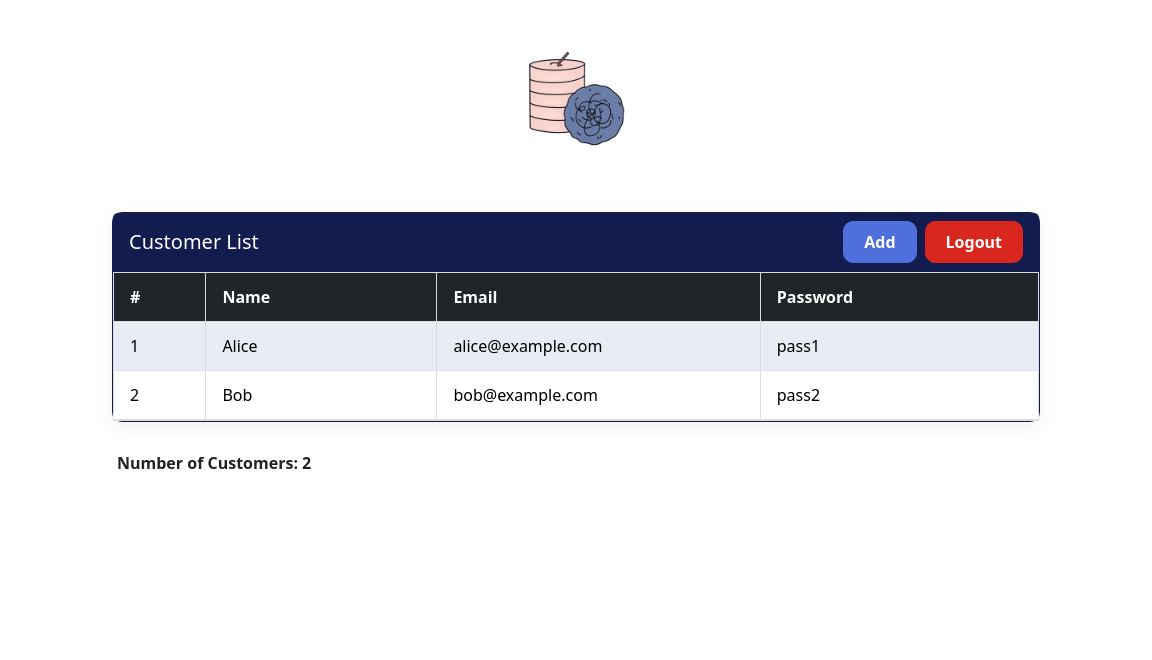
Changes in the style when a customer is selected › Add and Update forms appears and populates correctly › shows add/update form correctly
Click the button "Add".
click(880, 242)  # box [843,221,917,263]
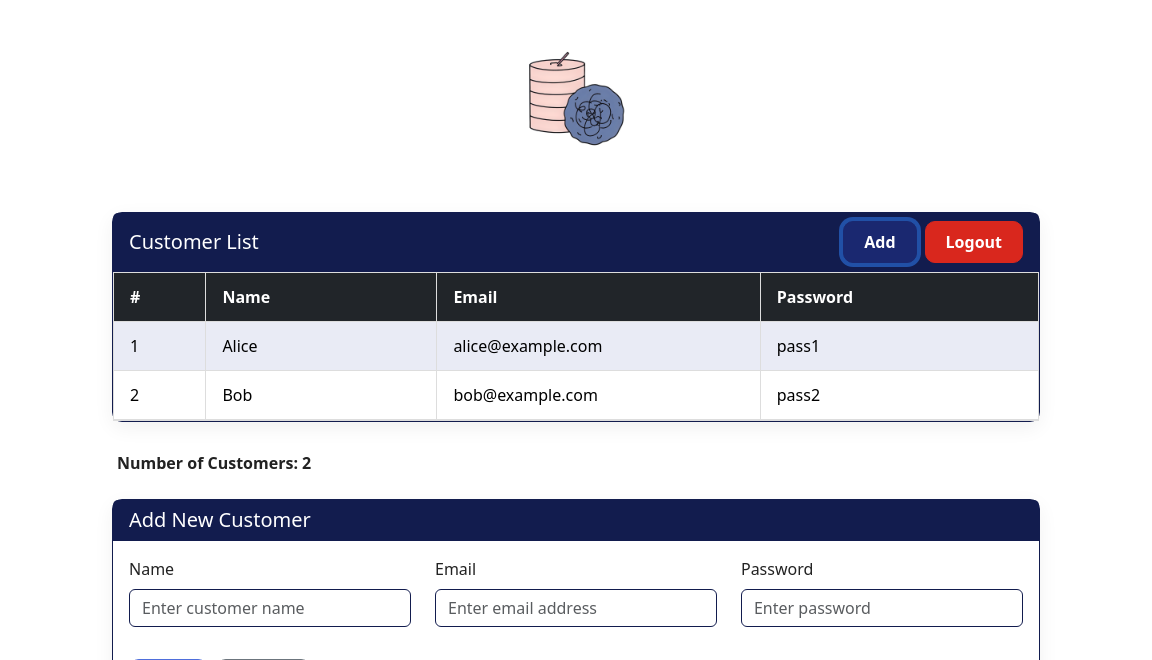
Check: the heading "Add New Customer" is shown, box [129,506,311,533]
Click the text "Alice".
click(240, 346)  # box [222,335,258,357]
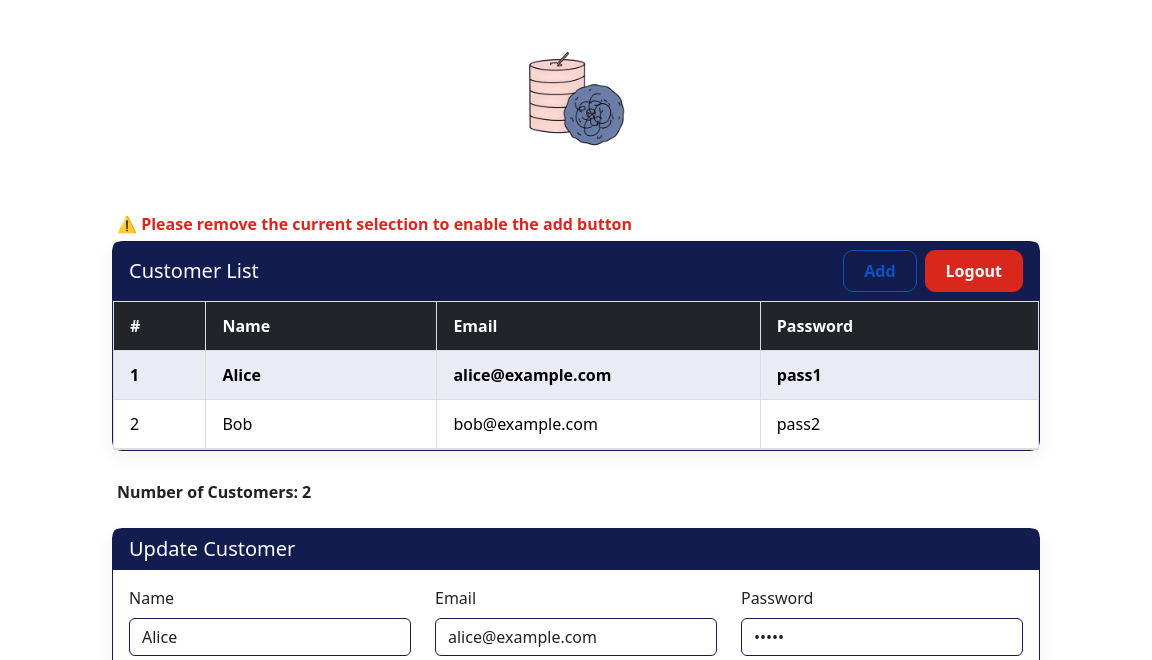
Check: the heading "Update Customer" is shown, box [129,535,295,562]
Check: the heading "Add New Customer" is gone
